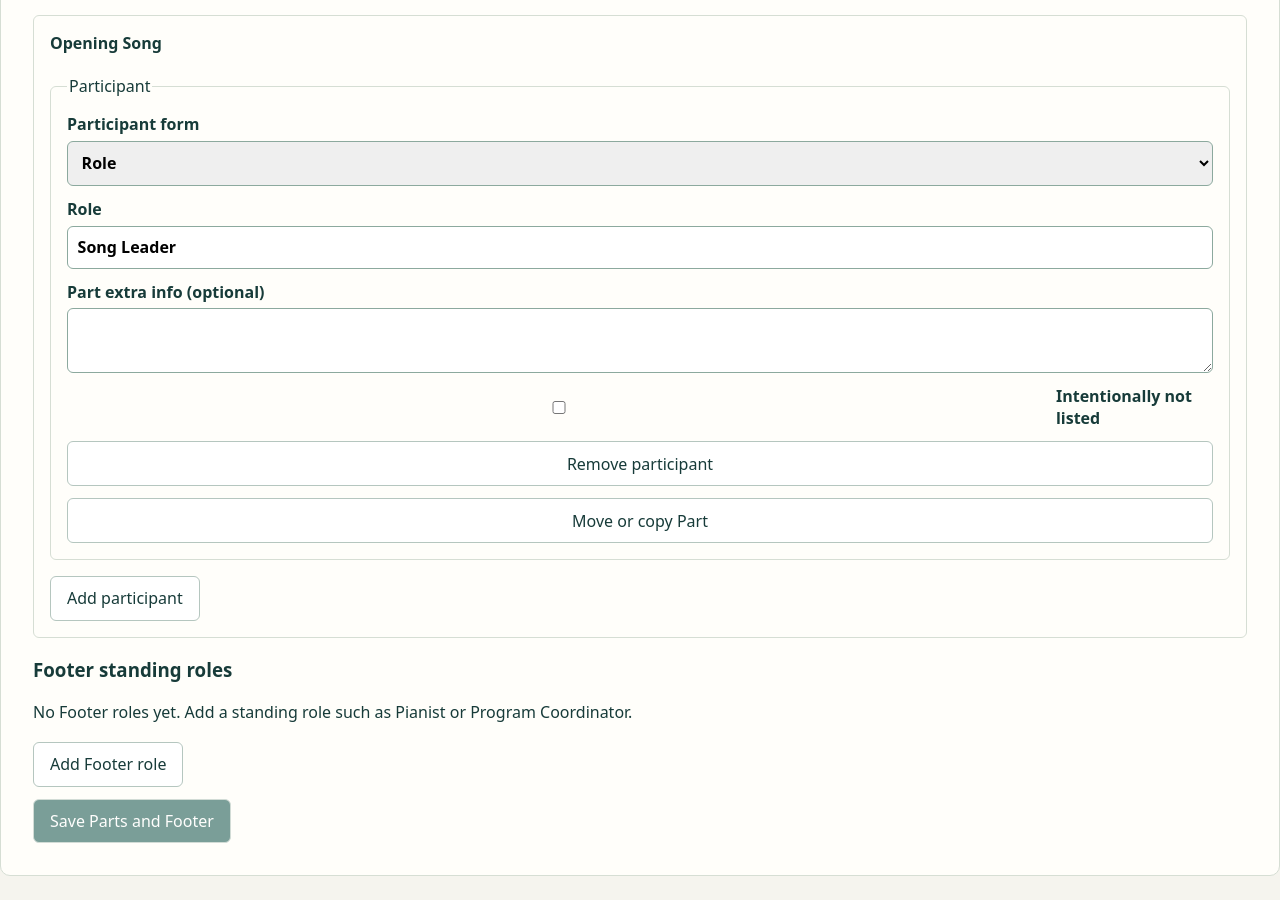
it: recovers the move or copy panel after a failed load when the destination stays the same
The image size is (1280, 900).
(page scrolled)
Click the button "Move or copy Part" at (640, 521), box [67,498,1213,543]
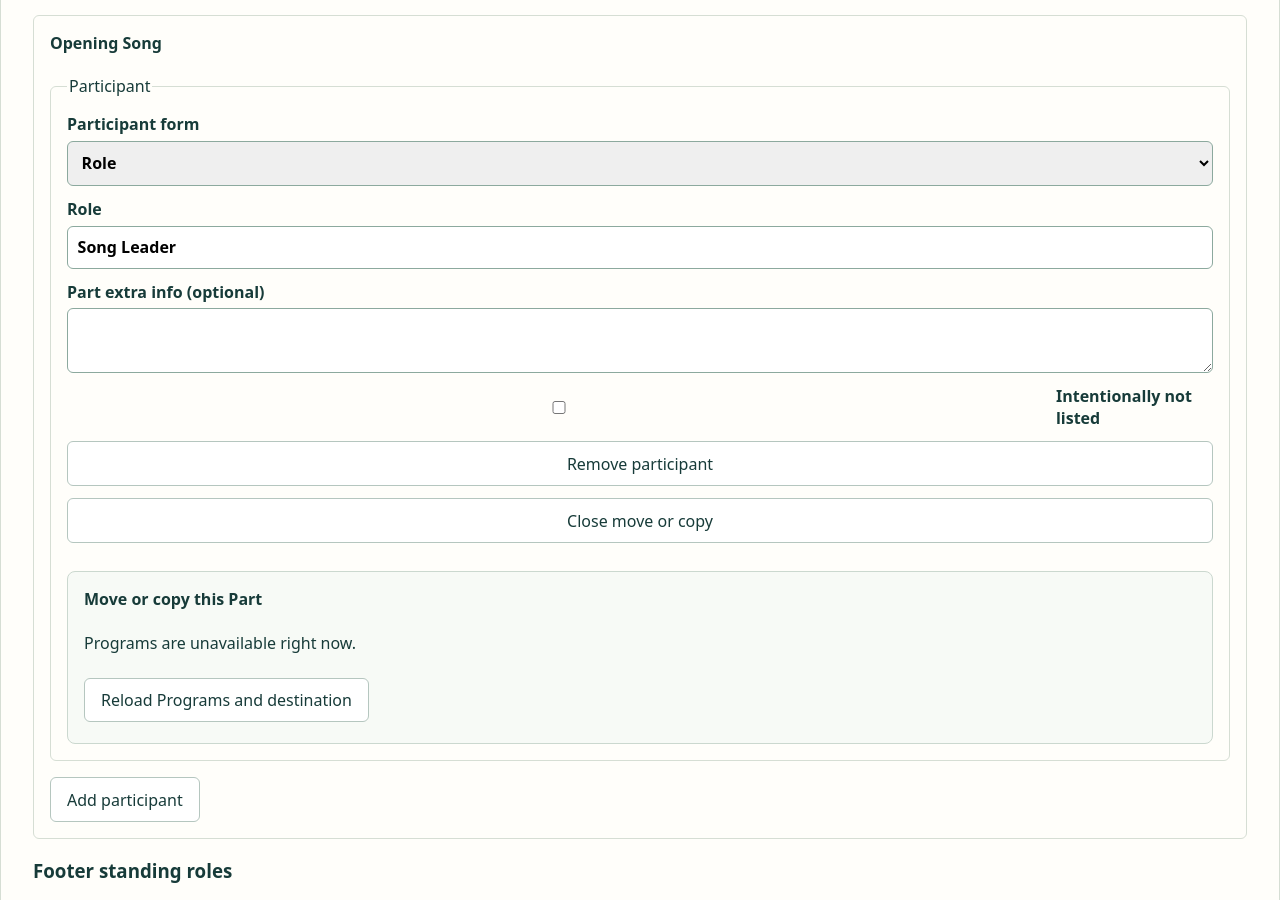
Now the message shows "Programs are unavailable right now.", box [84,632,356,654]
Now the number of messages is 1, box [84,632,369,722]
Click the button "Reload Programs and destination" at (226, 700), box [84,678,369,722]
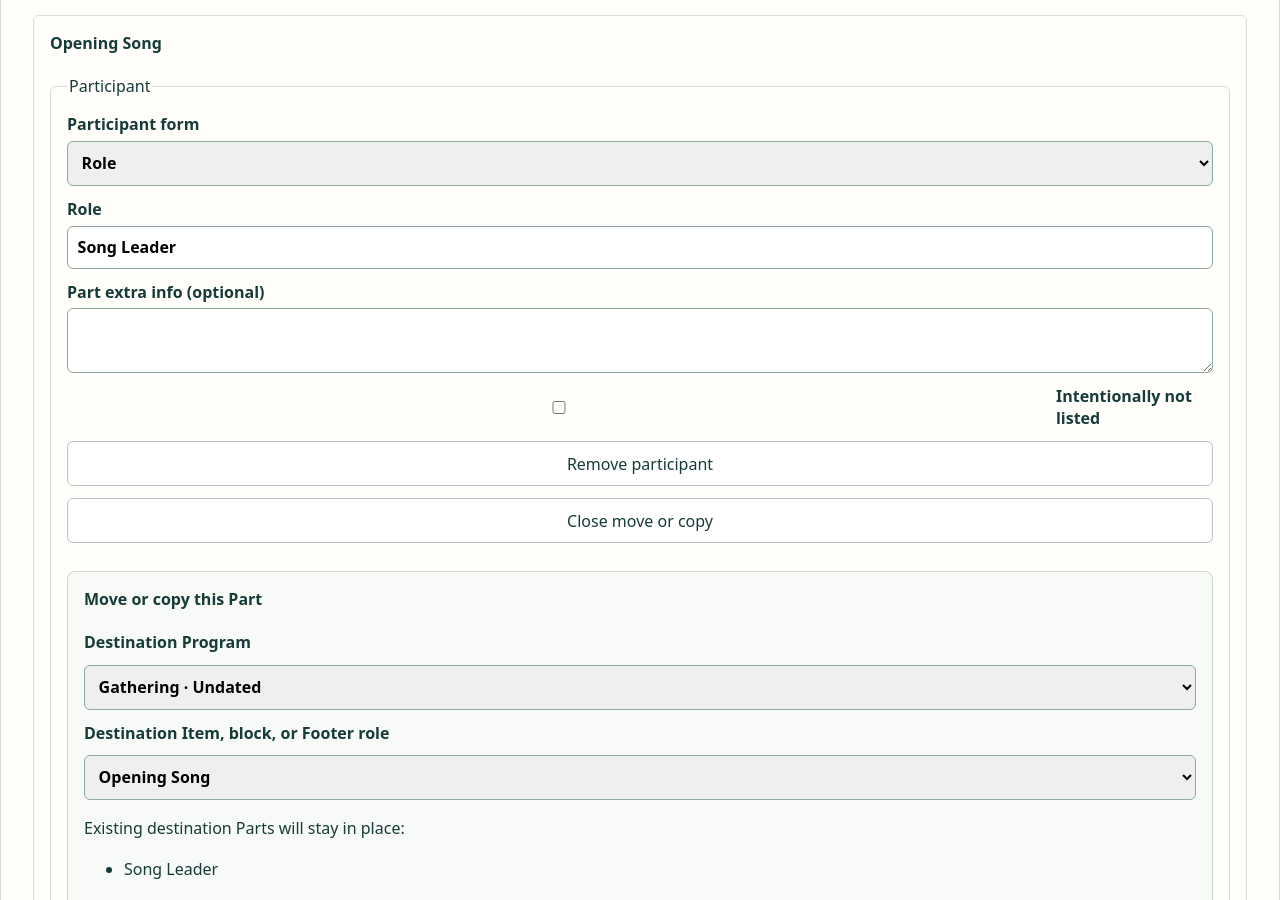
Now the message "Programs are unavailable right now. Reload Programs and destination" is gone
